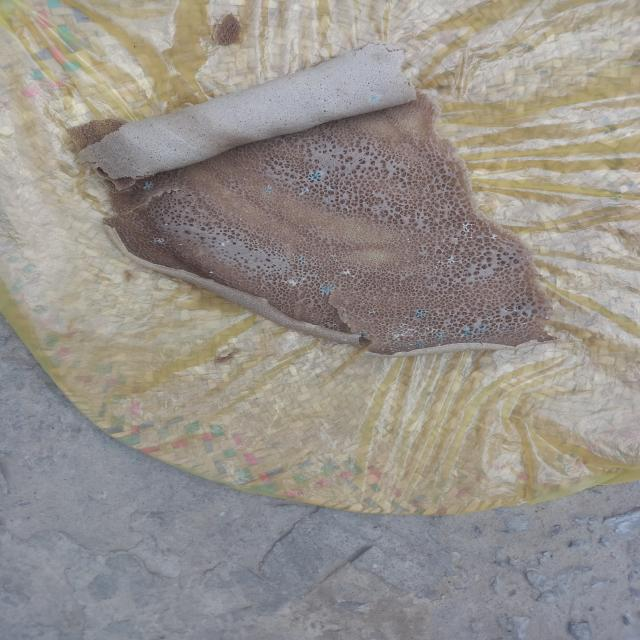injera_mold: (149, 235, 168, 246), (283, 276, 299, 288), (447, 254, 461, 267), (462, 224, 478, 234), (322, 284, 333, 297), (414, 309, 427, 318), (142, 182, 156, 190), (437, 259, 447, 270), (392, 332, 409, 338), (342, 269, 353, 277), (296, 257, 307, 265), (460, 329, 472, 336), (311, 173, 322, 180), (297, 256, 306, 264), (299, 188, 309, 195), (406, 340, 413, 350), (357, 330, 368, 336), (220, 241, 228, 249), (410, 329, 418, 337), (416, 340, 425, 347), (433, 310, 440, 318), (207, 270, 217, 275), (366, 310, 376, 315), (436, 332, 444, 338), (265, 188, 274, 193), (491, 235, 499, 240), (426, 328, 434, 333), (331, 253, 337, 259), (369, 96, 378, 100), (399, 324, 408, 328), (378, 329, 384, 335), (388, 346, 394, 352), (515, 305, 522, 310), (539, 335, 546, 340), (497, 322, 505, 326), (356, 227, 362, 232), (479, 324, 484, 330), (398, 342, 403, 348), (377, 322, 383, 327), (474, 336, 484, 339), (160, 208, 165, 214), (386, 329, 393, 333), (505, 239, 514, 242), (276, 269, 281, 274), (406, 238, 411, 243), (387, 323, 392, 328), (196, 236, 202, 240), (178, 243, 184, 247), (467, 235, 473, 239), (480, 243, 486, 247), (342, 338, 348, 342), (464, 259, 470, 263), (163, 222, 170, 225), (488, 228, 491, 235), (517, 313, 524, 316), (431, 106, 436, 110), (519, 256, 524, 260), (481, 221, 485, 226), (458, 305, 463, 309), (425, 318, 430, 322), (499, 334, 504, 338), (525, 256, 530, 260), (483, 233, 487, 238), (333, 323, 338, 327), (410, 320, 414, 325), (525, 306, 530, 310), (388, 343, 397, 345), (414, 325, 420, 328), (408, 312, 411, 318), (471, 264, 474, 270), (438, 283, 444, 286), (526, 312, 530, 316), (545, 316, 549, 320), (380, 348, 384, 352), (449, 310, 452, 315), (437, 343, 442, 346), (421, 334, 426, 337), (514, 328, 517, 333), (218, 258, 222, 261), (452, 237, 458, 239), (440, 250, 444, 253), (476, 236, 480, 239), (437, 298, 440, 302), (436, 306, 440, 309), (486, 326, 489, 330), (523, 288, 526, 292), (471, 305, 477, 307), (505, 342, 508, 346), (342, 309, 348, 311), (473, 305, 478, 307), (440, 340, 445, 342), (202, 235, 205, 238), (127, 148, 130, 151), (115, 134, 118, 137), (507, 232, 510, 235), (455, 242, 458, 245), (456, 289, 459, 292), (274, 264, 278, 266), (293, 136, 297, 138), (421, 248, 425, 250), (505, 310, 509, 312), (508, 332, 512, 334), (522, 322, 526, 324), (113, 131, 116, 133), (305, 129, 307, 132), (365, 145, 368, 147), (375, 124, 377, 127), (447, 244, 449, 247), (430, 284, 433, 286), (443, 240, 446, 242), (481, 268, 484, 270), (301, 300, 304, 302), (474, 246, 477, 248), (352, 92, 354, 94), (302, 153, 304, 155), (389, 107, 391, 109), (433, 280, 435, 282), (278, 303, 280, 305), (437, 328, 439, 330), (512, 344, 514, 346), (429, 305, 432, 306), (254, 251, 256, 252), (478, 312, 480, 313), (462, 242, 464, 243)
